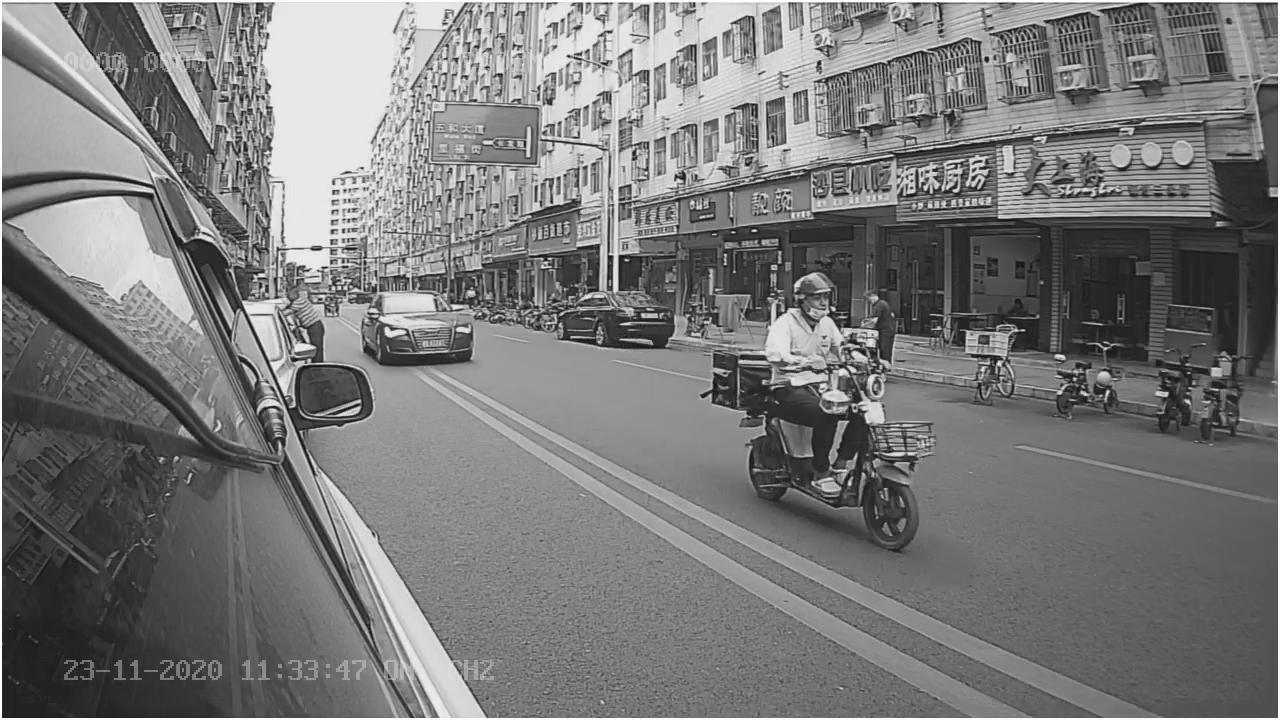person: (761, 271, 859, 367)
